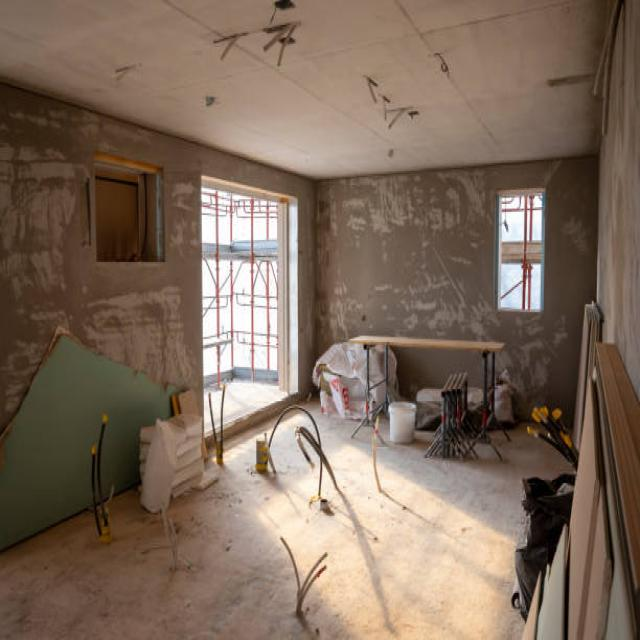floor: (0, 386, 577, 640)
wall: (0, 83, 317, 440), (315, 156, 599, 428), (597, 0, 640, 400), (92, 151, 166, 262)
